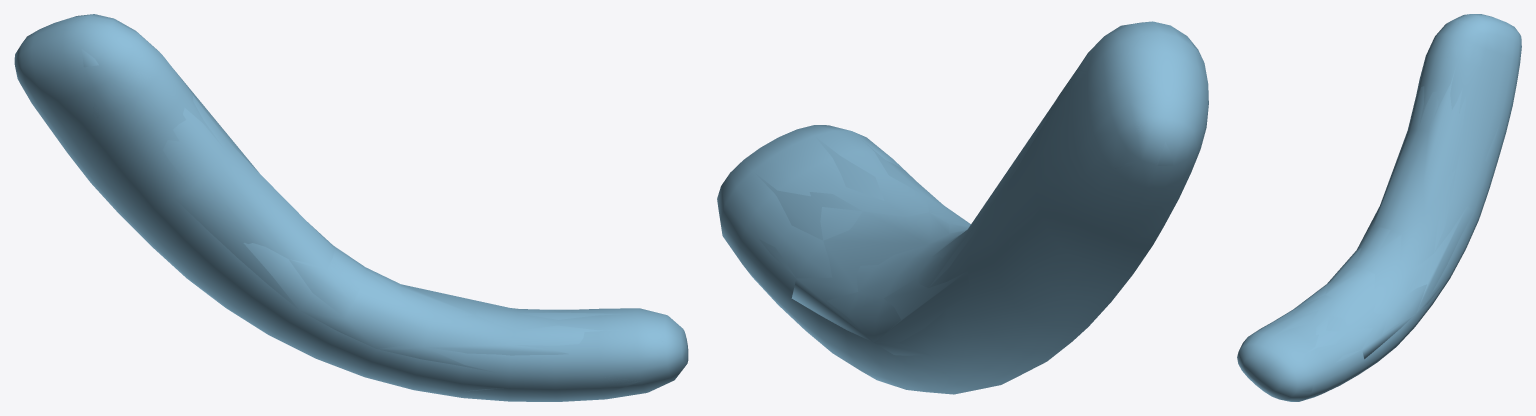
The picture shows the model from 3 angles, left to right: view 1: azimuth 30°, elevation 25°; view 2: azimuth 150°, elevation 25°; view 3: azimuth 270°, elevation 25°; orthographic projection. The views are drawn at different scales.
Parts seen in each view (by area): view 1: CC R4, CC R4 low; view 2: CC R4, CC R4 low; view 3: CC R4, CC R4 low.
Boxes of the visible parts, <box> form: CC R4: <box>14,14,688,401</box>; CC R4 low: <box>70,18,665,393</box>; CC R4: <box>717,21,1208,394</box>; CC R4 low: <box>719,22,1203,355</box>; CC R4: <box>1237,14,1521,401</box>; CC R4 low: <box>1245,14,1498,392</box>.
Bounding box in the file's own units: 9.25 × 6.66 × 6.74.
